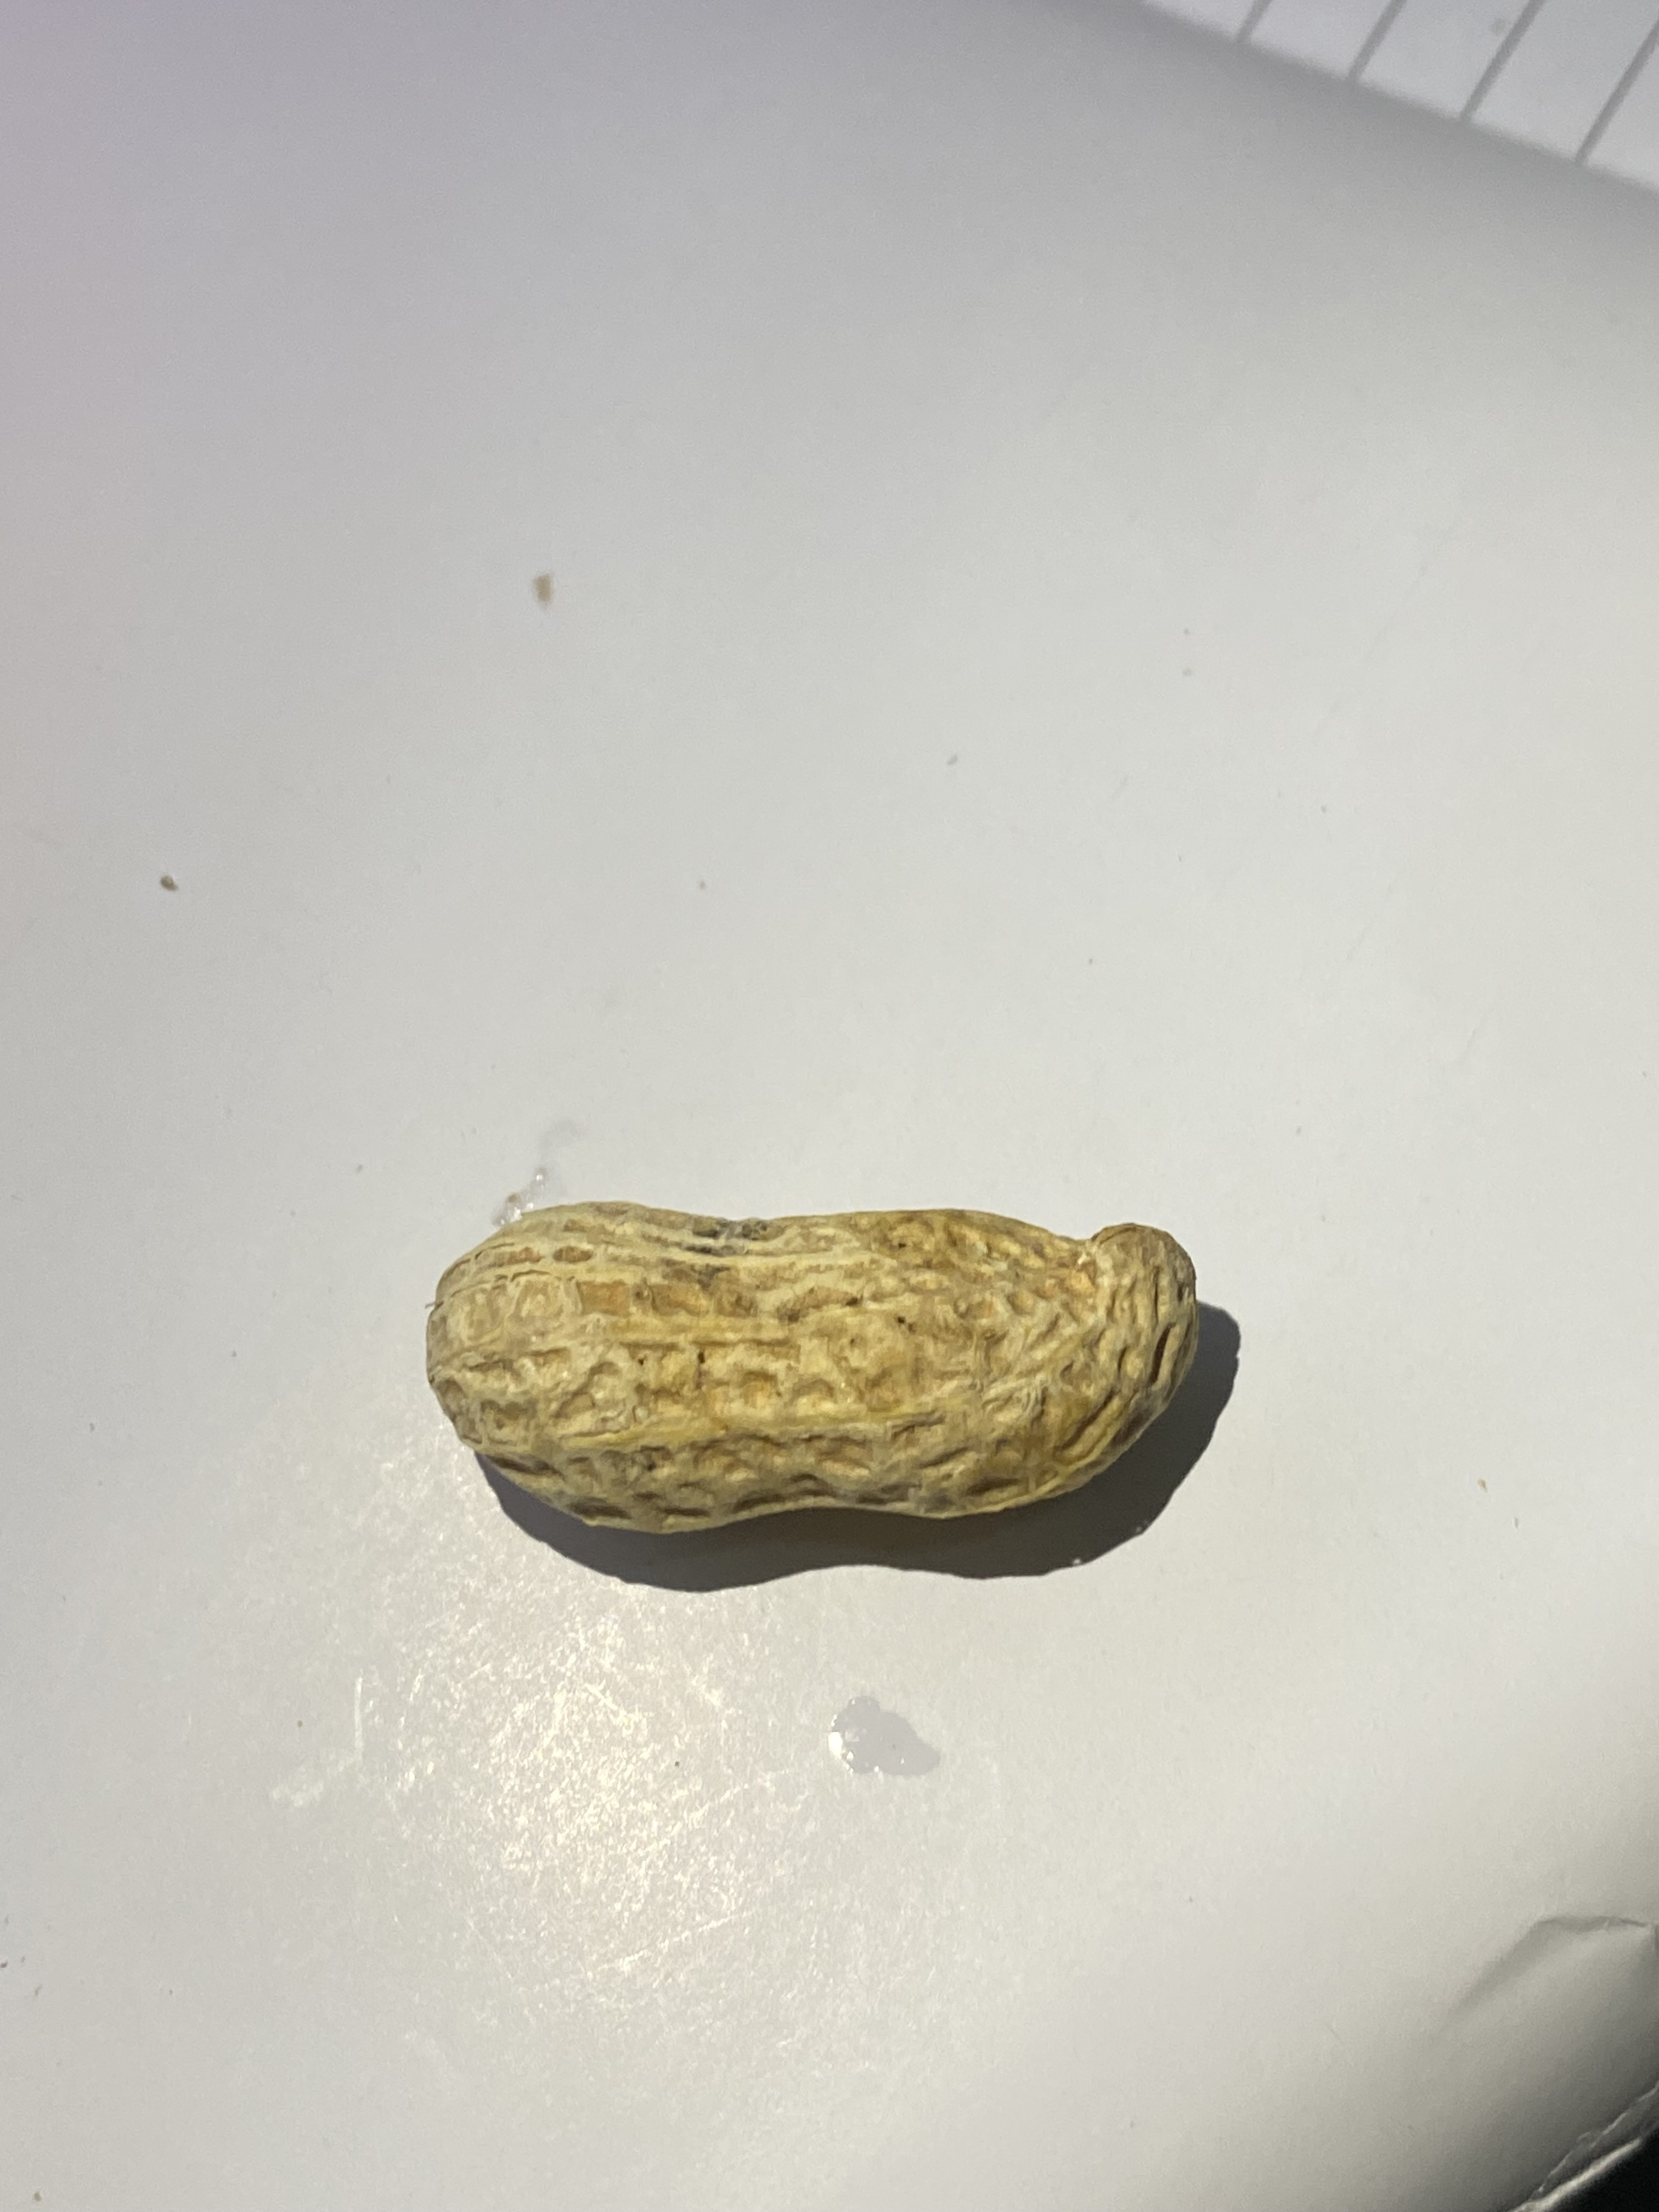kacang2: (411, 1200, 1237, 1555)
